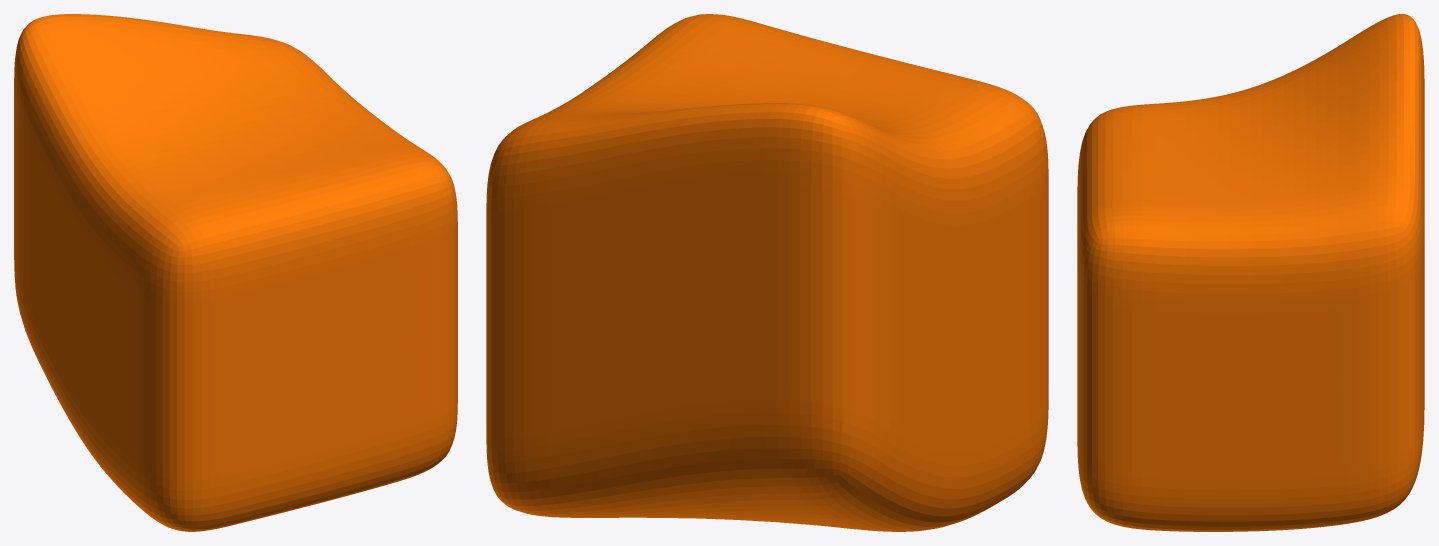
The picture shows the model from 3 angles, left to right: view 1: azimuth 30°, elevation 25°; view 2: azimuth 150°, elevation 25°; view 3: azimuth 270°, elevation 25°; orthographic projection. The views are drawn at different scales.
Visible parts, largest first — view 1: smooth_1_base.016; view 2: smooth_1_base.016; view 3: smooth_1_base.016.
Part boxes in pixels (left/top/right/bottom): smooth_1_base.016: left=14, top=14, right=457, bottom=531; smooth_1_base.016: left=486, top=14, right=1048, bottom=531; smooth_1_base.016: left=1077, top=14, right=1424, bottom=531.
Bounding box in the file's own units: 60 × 76.77 × 60.
